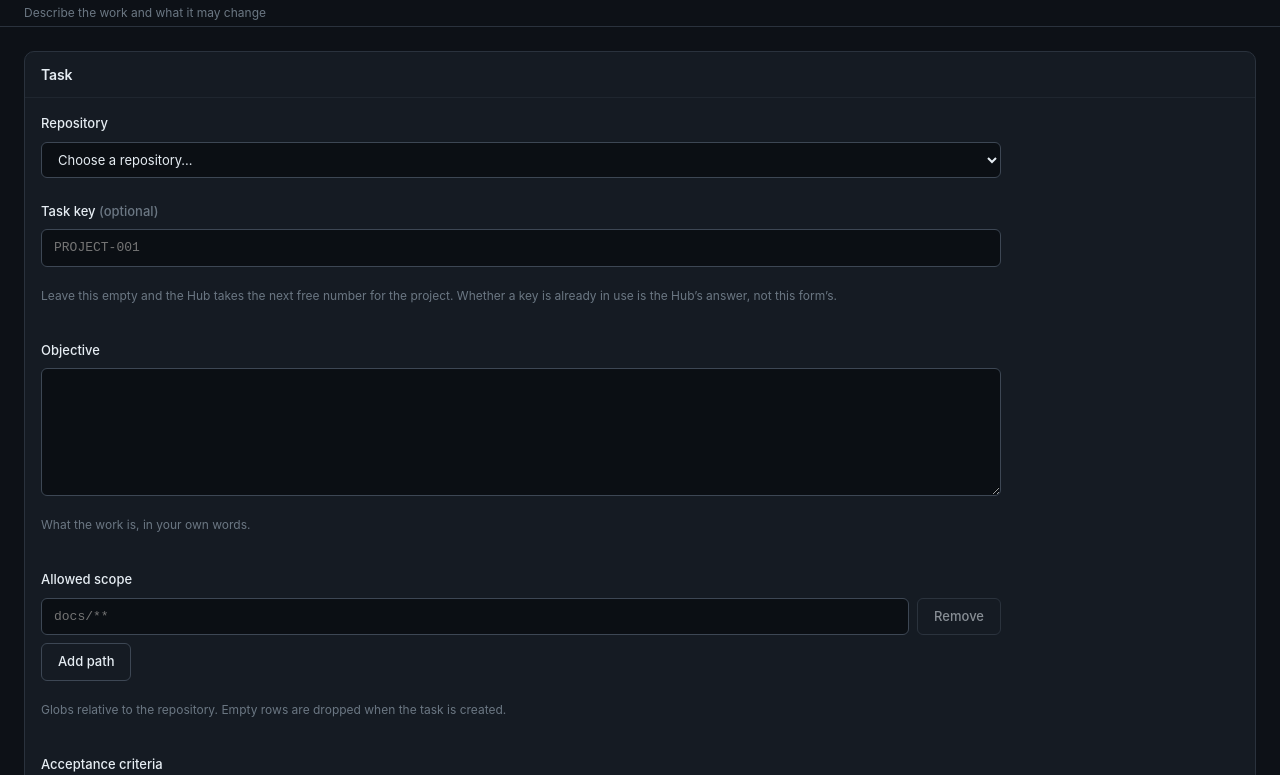
Test: CreateTaskPage › checks the shape of a task key without guessing whether it is free
Type "nonsense" into the field labelled "Task key (optional)". click: (521, 248)
box: [41,229,1001,266]
(page scrolled)
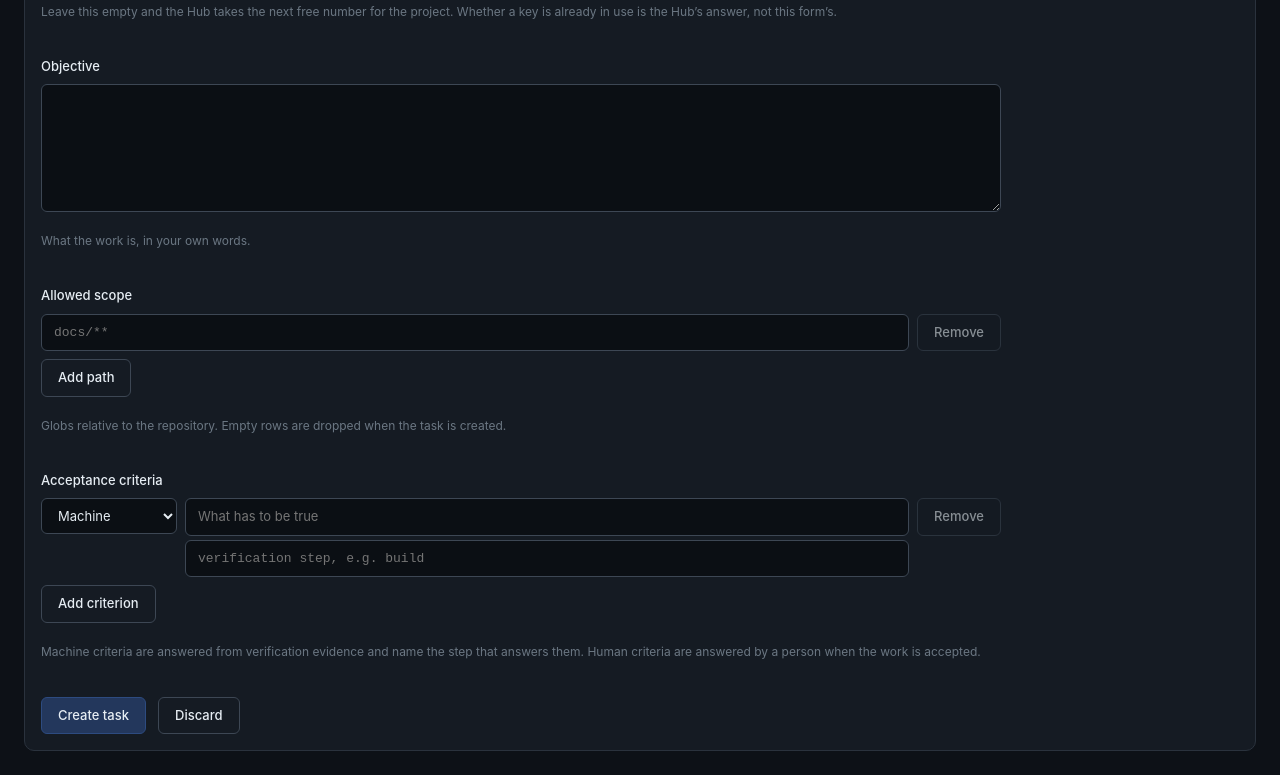
Click the button "Create task". click: (94, 715)
box: [41,696,146,734]
(page scrolled)
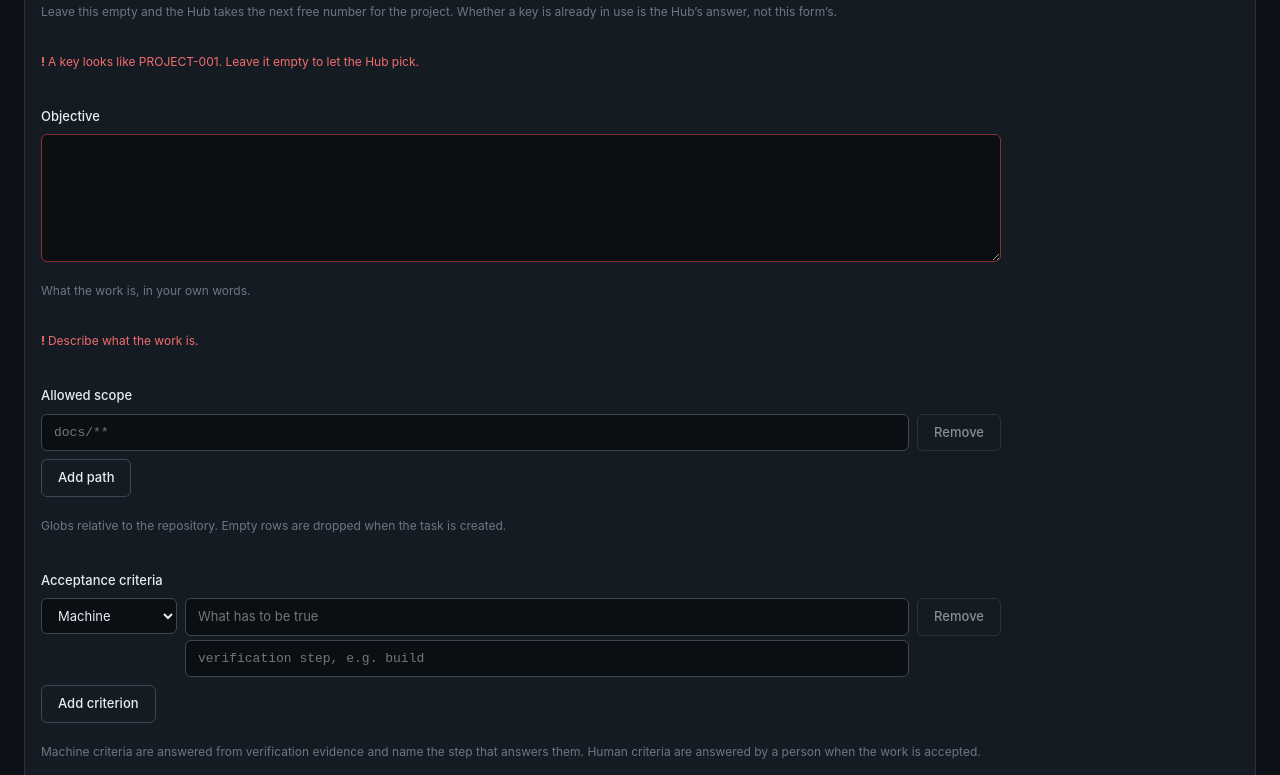
Result: the text "A key looks like PROJECT-001" is shown at [48,54,419,68]
